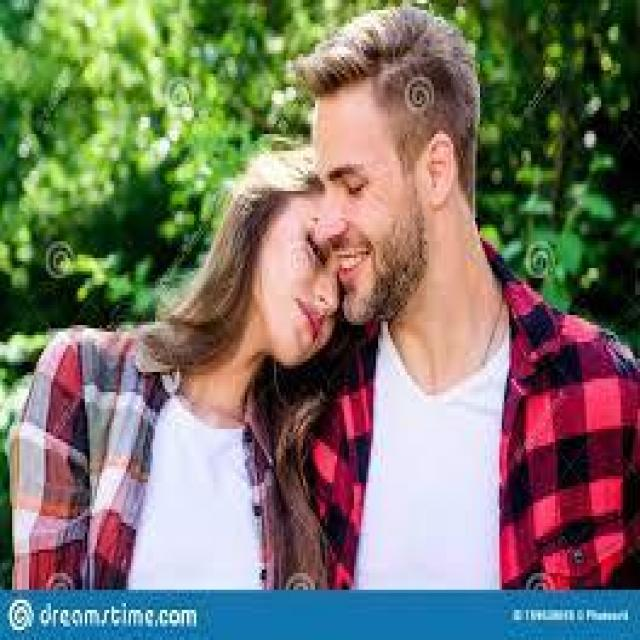person: (276, 0, 636, 590), (17, 147, 327, 590)
